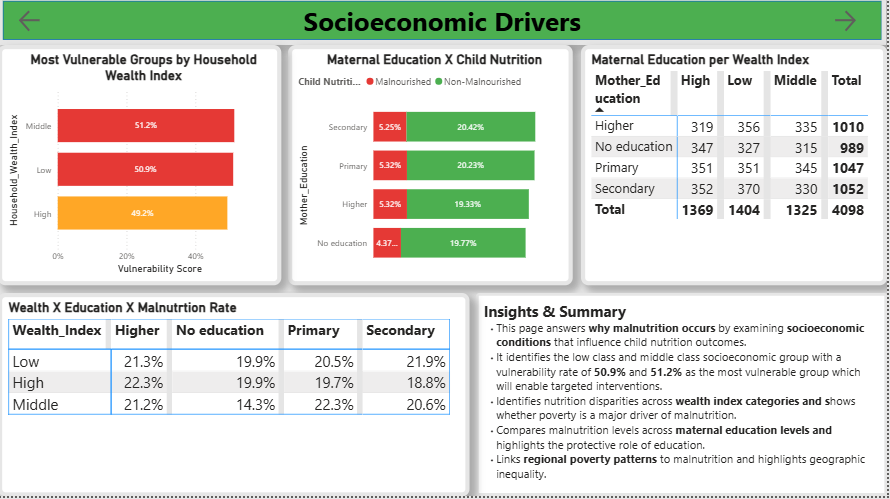

Layout of this report page (visuals, bound fields, positions):
{"tool":"powerbi","page":{"name":"Socioeconomic Drivers","canvas":[1280,720],"ordinal":2},"visuals":[{"type":"shape","title":"Under-Five Child Nutrition Analysis Dashboard","box":[0,0,1279.4,70],"z":0},{"type":"barChart","title":"Maternal Education X Child Nutrition","fields":{"Category":["malnutrition_children_ethiopia.Mother_Education"],"Y":["CountNonNull(malnutrition_children_ethiopia.ID)"],"Series":["malnutrition_children_ethiopia.Child Nutrition"]},"box":[417.6,70.6,410.4,345.6],"z":1000},{"type":"clusteredBarChart","title":"Most Vulnerable Groups by Household Wealth Index","fields":{"Category":["malnutrition_children_ethiopia.Household_Wealth_Index"],"Y":["malnutrition_children_ethiopia.Vulnerability Score"]},"box":[0,70.6,407.5,345.6],"z":2000},{"type":"pivotTable","title":"Maternal Education per Wealth Index","fields":{"Rows":["malnutrition_children_ethiopia.Mother_Education"],"Values":["CountNonNull(malnutrition_children_ethiopia.ID)"],"Columns":["malnutrition_children_ethiopia.Household_Wealth_Index"]},"box":[839.5,70.6,440.6,345.6],"z":3000},{"type":"textbox","box":[688.3,427.7,591.8,292.3],"z":4000},{"type":"pivotTable","title":"Wealth X Education X Malnutrtion Rate","fields":{"Rows":["malnutrition_children_ethiopia.Household_Wealth_Index"],"Columns":["malnutrition_children_ethiopia.Mother_Education"],"Values":["malnutrition_children_ethiopia.% Malnourished"]},"box":[0,427.1,678.6,292.9],"z":5000},{"type":"actionButton","box":[25.7,15.7,68.6,40],"z":6000},{"type":"actionButton","box":[1200,15.7,80,40],"z":7000}]}

Visuals, with their boxes in screenshot pixels (x1, y1, x2, y2), scaled from the page's 1280x720 canvas onto the 890x499 screenshot:
"Under-Five Child Nutrition Analysis Dashboard" shape: detection(0, 0, 889, 49)
"Maternal Education X Child Nutrition" barChart: detection(290, 49, 576, 288)
"Most Vulnerable Groups by Household Wealth Index" clusteredBarChart: detection(0, 49, 283, 288)
"Maternal Education per Wealth Index" pivotTable: detection(584, 49, 889, 288)
textbox: detection(479, 296, 889, 498)
"Wealth X Education X Malnutrtion Rate" pivotTable: detection(0, 296, 472, 498)
actionButton: detection(18, 11, 66, 39)
actionButton: detection(834, 11, 889, 39)
